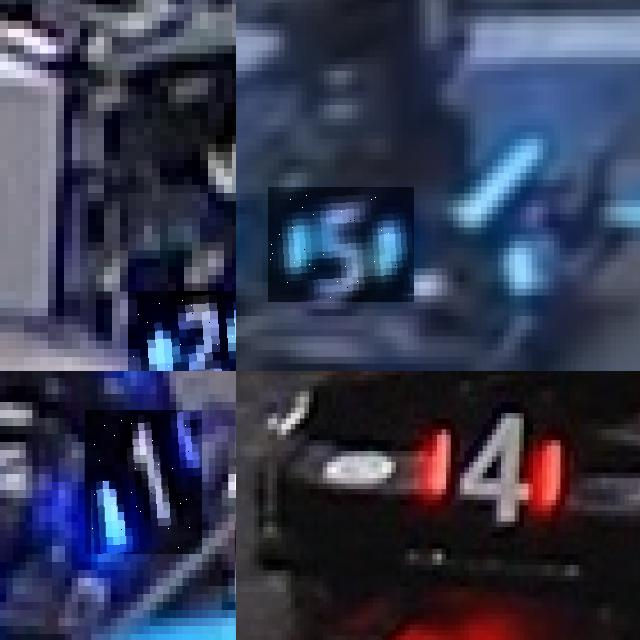B1: (85, 410, 202, 554)
B2: (128, 291, 236, 371)
B5: (268, 187, 414, 302)
R4: (424, 408, 560, 522)
